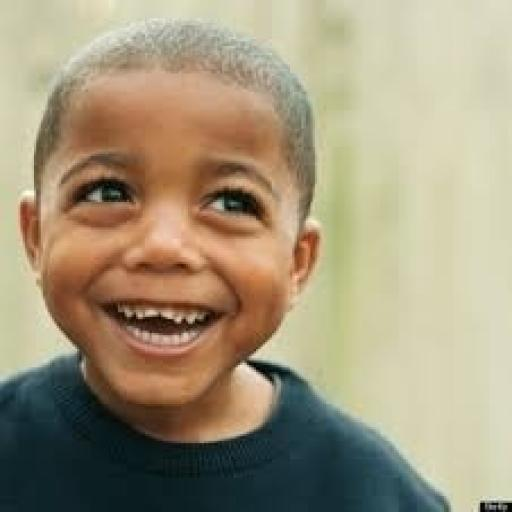laughing: (6, 14, 338, 416)
